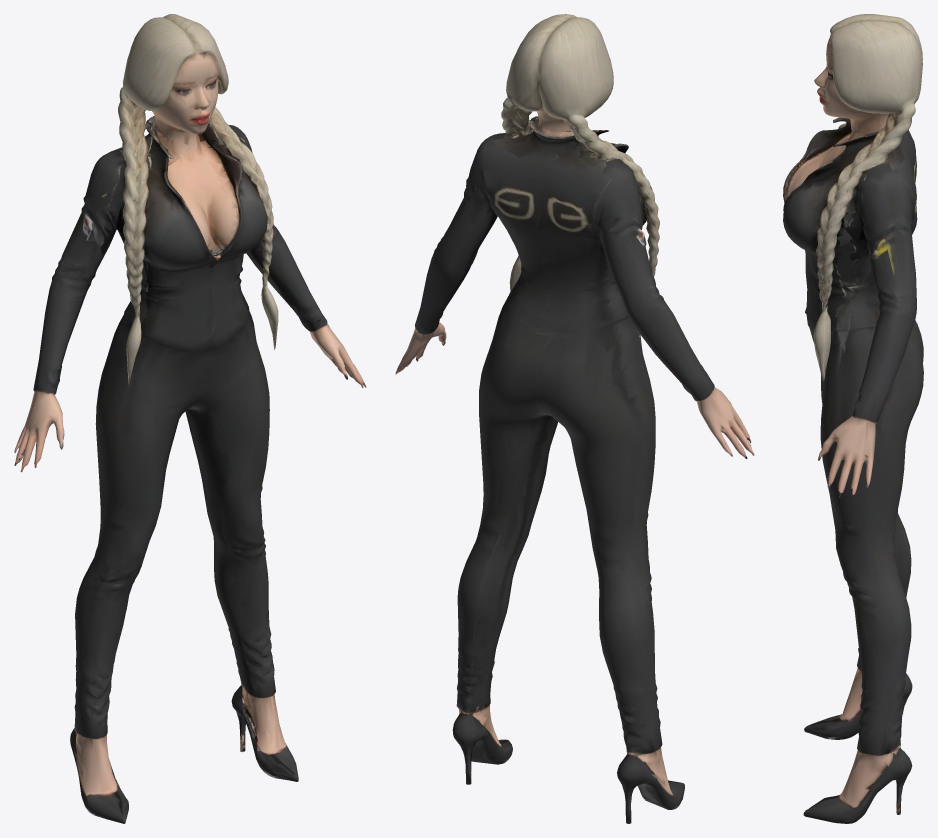
File: leather.glb
3 views of the same model, side by side, from view 1: azimuth 30°, elevation 25°; view 2: azimuth 150°, elevation 25°; view 3: azimuth 270°, elevation 25° (orthographic).
Parts seen in each view (by area): view 1: Mesh_0; view 2: Mesh_0; view 3: Mesh_0.
Boxes of the visible parts, bbox=[...] form: Mesh_0: bbox=[14, 14, 366, 823]; Mesh_0: bbox=[395, 14, 754, 823]; Mesh_0: bbox=[783, 14, 923, 823].
Size of the model in its own units: 0.8826 by 1.85 by 0.312.
Materials: 1 (1 with a texture image).
